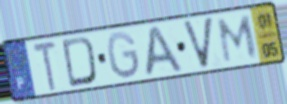A: (142, 23, 186, 80)
D: (60, 34, 99, 89)
G: (105, 30, 143, 82)
M: (216, 13, 259, 65)
T: (30, 40, 59, 93)
V: (180, 15, 215, 71)
